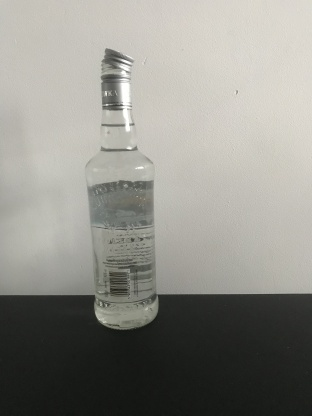nakretka: (98, 45, 135, 110)
